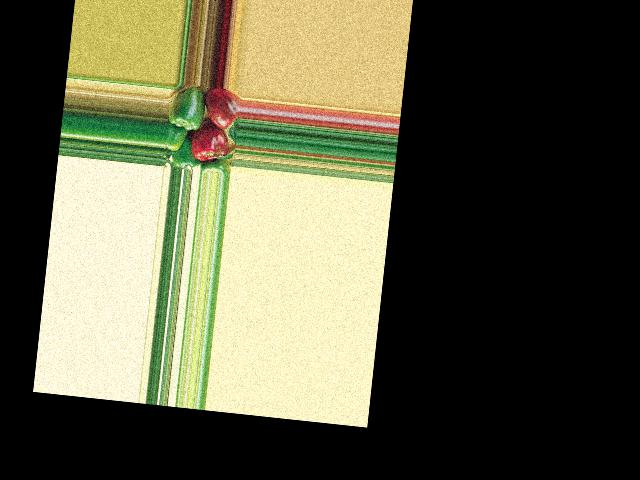bell_pepper: (204, 87, 240, 130)
